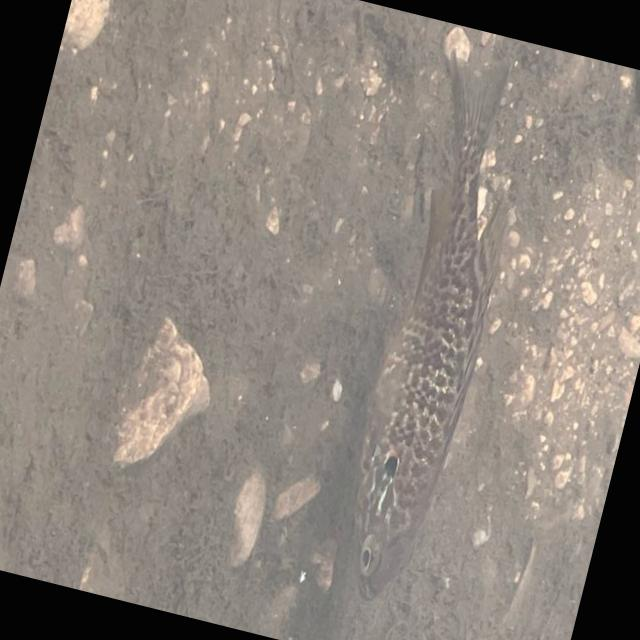Gunes Levregi: (306, 48, 548, 618)
